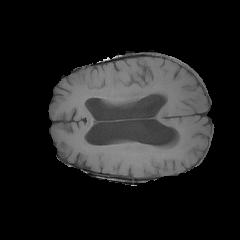glioma: (80, 131, 181, 160)
